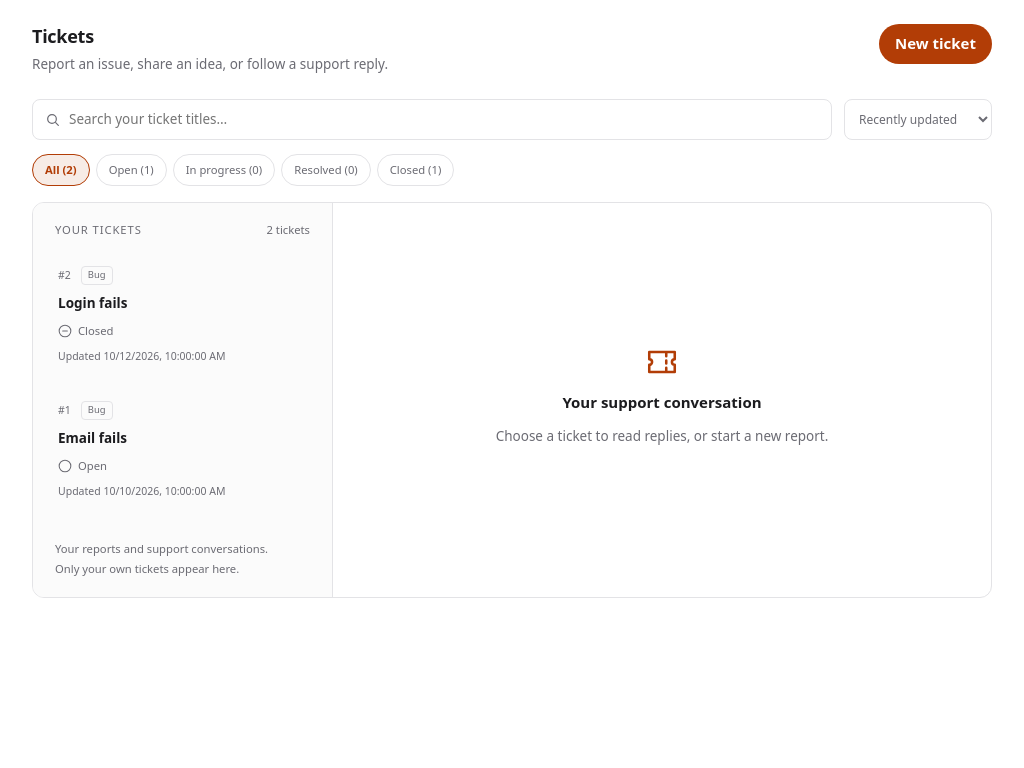
Test: TicketsView › counts and searches all statuses from one list and sorts by update time
Check: the button "All (2)" is shown, box [32,154,90,186]
Check: the button "Closed (1)" is shown, box [377,154,454,186]
Select "Oldest update first" in the dropdown named "Sort tickets" at (918, 120), box [844,99,992,140]
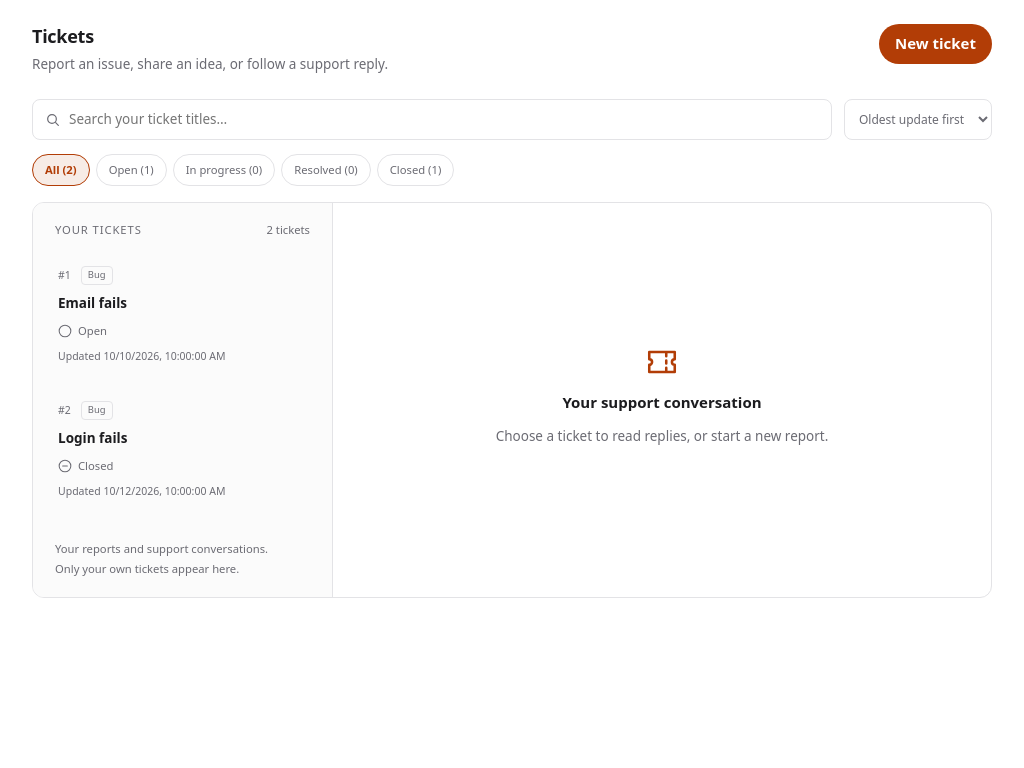
Check: the button with class "ticket-row" shows "Email fails", box [45,250,320,380]
Type "EMAIL" into the search field named "Search ticket titles".
click(444, 120); type("EMAIL")  # box [69,109,819,130]
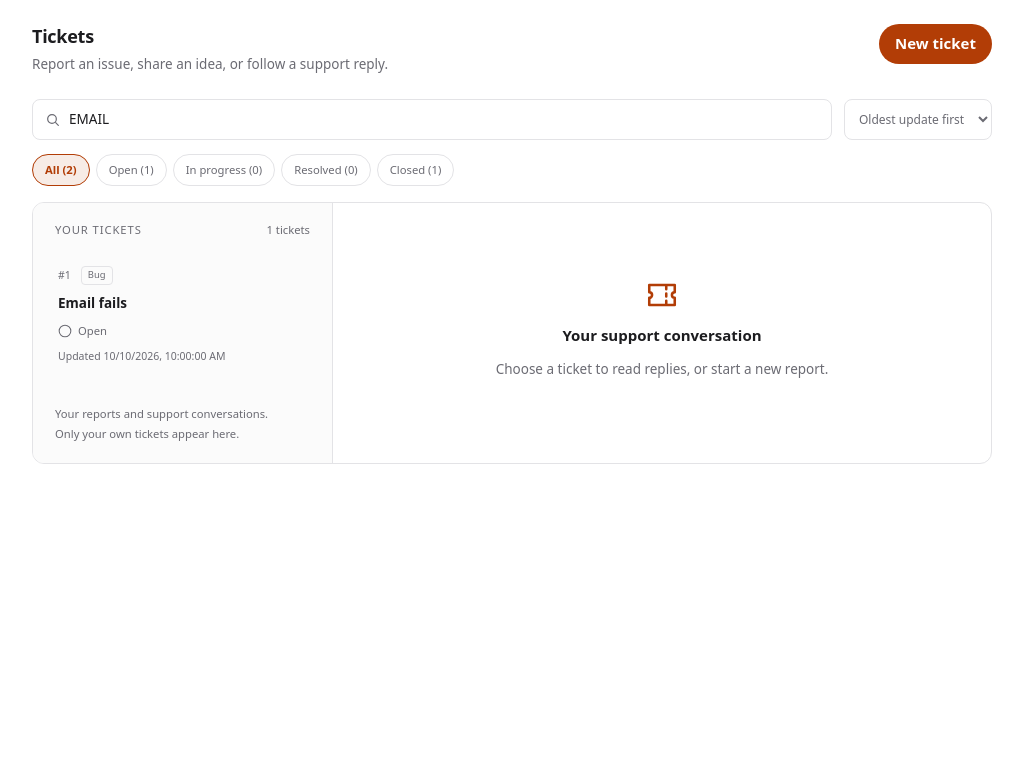
Check: the button with class "ticket-row" shows "Email fails", box [45,250,320,380]
Check: the number of buttons with class "ticket-row" is 1, box [45,250,320,380]
